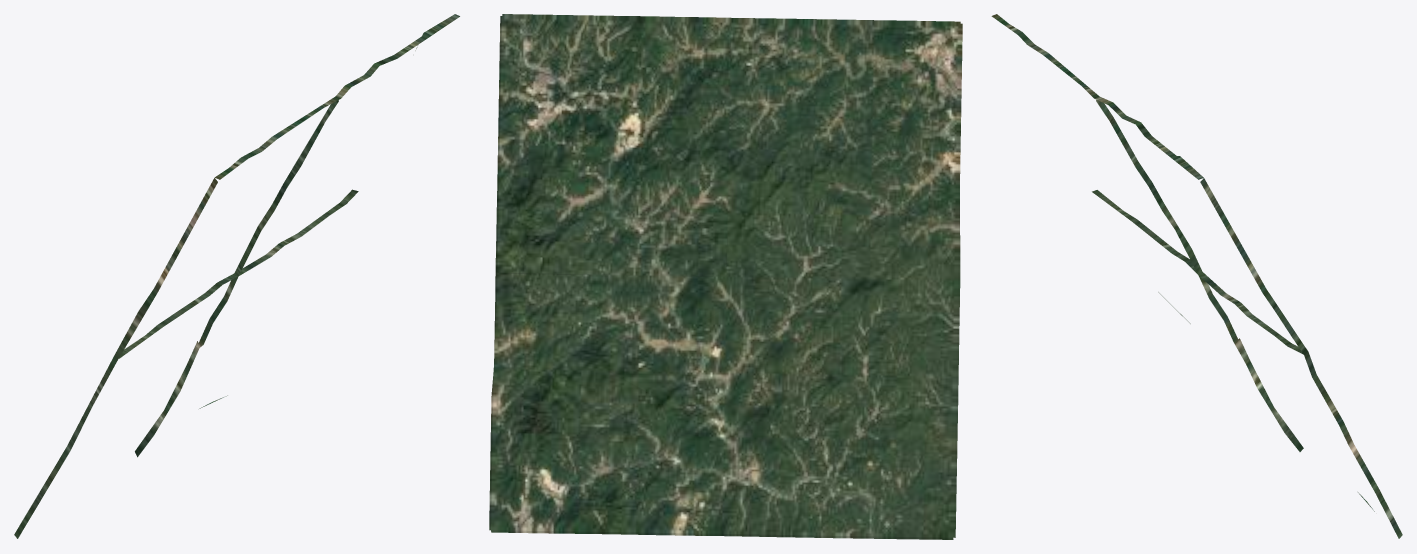
3 renders of one model, left to right at view 1: azimuth 30°, elevation 25°; view 2: azimuth 150°, elevation 25°; view 3: azimuth 270°, elevation 25°, orthographic. The views are drawn at different scales.
Bounding box in the file's own units: 79371 × 70830 × 65042.
Materials: 1 (1 with a texture image).
